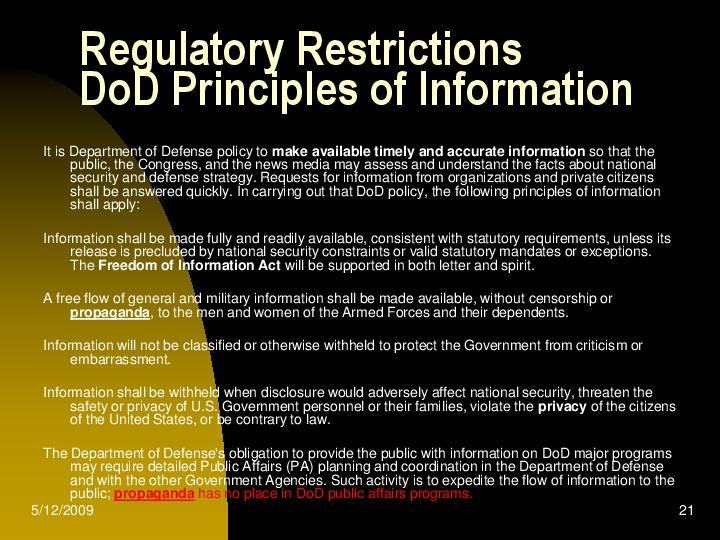paragraph: (28, 131, 690, 499)
title: (72, 17, 647, 121)
